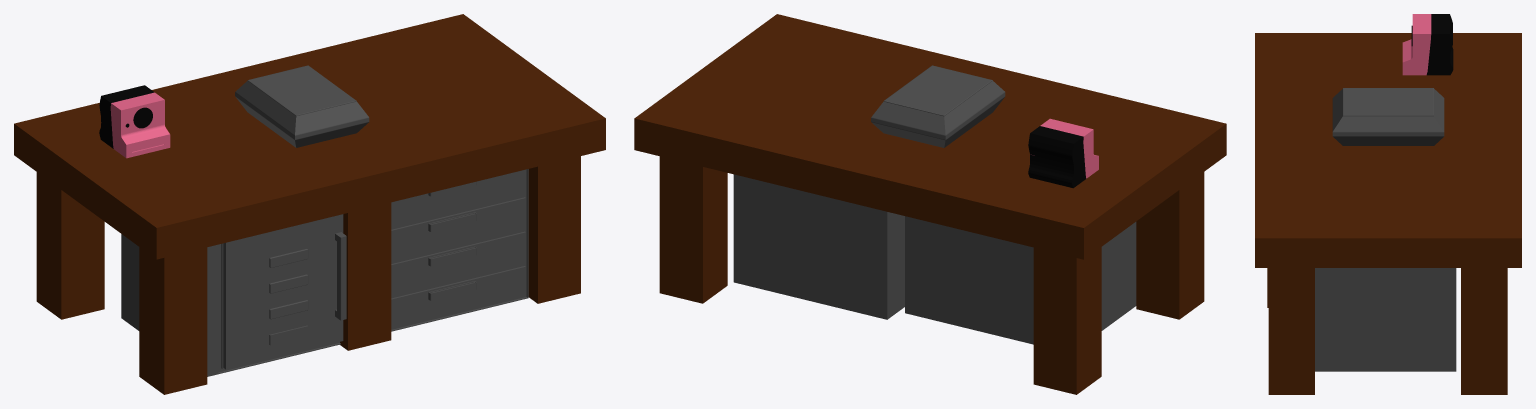
Rendered from meja 1_Scene.fbx.
3 renders of one model, left to right at view 1: azimuth 30°, elevation 25°; view 2: azimuth 150°, elevation 25°; view 3: azimuth 270°, elevation 25°, orthographic. The views are drawn at different scales.
Visible parts, largest first — view 1: Cube.036, Cube.038, Cube.045, Cube.044, Cube.040; view 2: Cube.036, Cube.045, Cube.038, Cube.044, Cube.040; view 3: Cube.036, Cube.045, Cube.044, Cube.040.
Part boxes in pixels (bbox=[...]): Cube.036: bbox=[14, 14, 605, 394]; Cube.038: bbox=[121, 214, 346, 376]; Cube.045: bbox=[391, 169, 528, 331]; Cube.044: bbox=[235, 65, 369, 147]; Cube.040: bbox=[99, 85, 170, 158]; Cube.036: bbox=[634, 14, 1226, 394]; Cube.045: bbox=[733, 174, 904, 319]; Cube.038: bbox=[905, 216, 1136, 344]; Cube.044: bbox=[871, 65, 1005, 147]; Cube.040: bbox=[1028, 118, 1098, 188]; Cube.036: bbox=[1255, 33, 1521, 394]; Cube.045: bbox=[1315, 268, 1456, 371]; Cube.044: bbox=[1332, 88, 1444, 145]; Cube.040: bbox=[1402, 14, 1453, 75].
Size of the model in its own units: 246 by 115 by 135.
